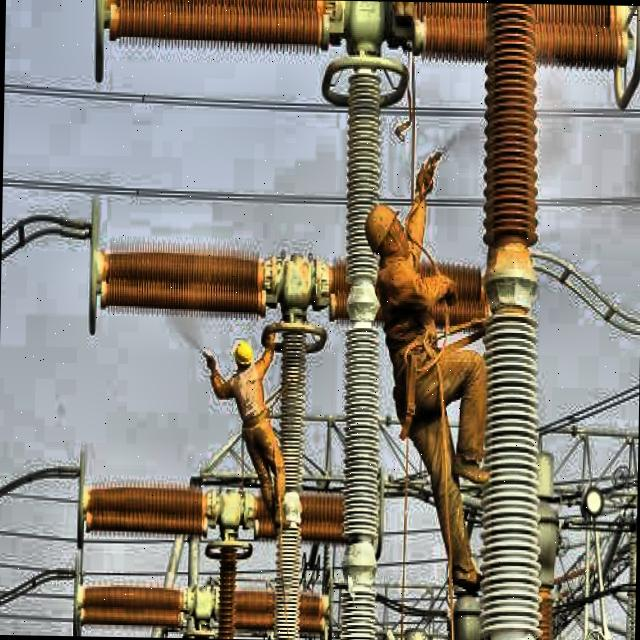helmet: (364, 196, 410, 263), (230, 336, 254, 372)
